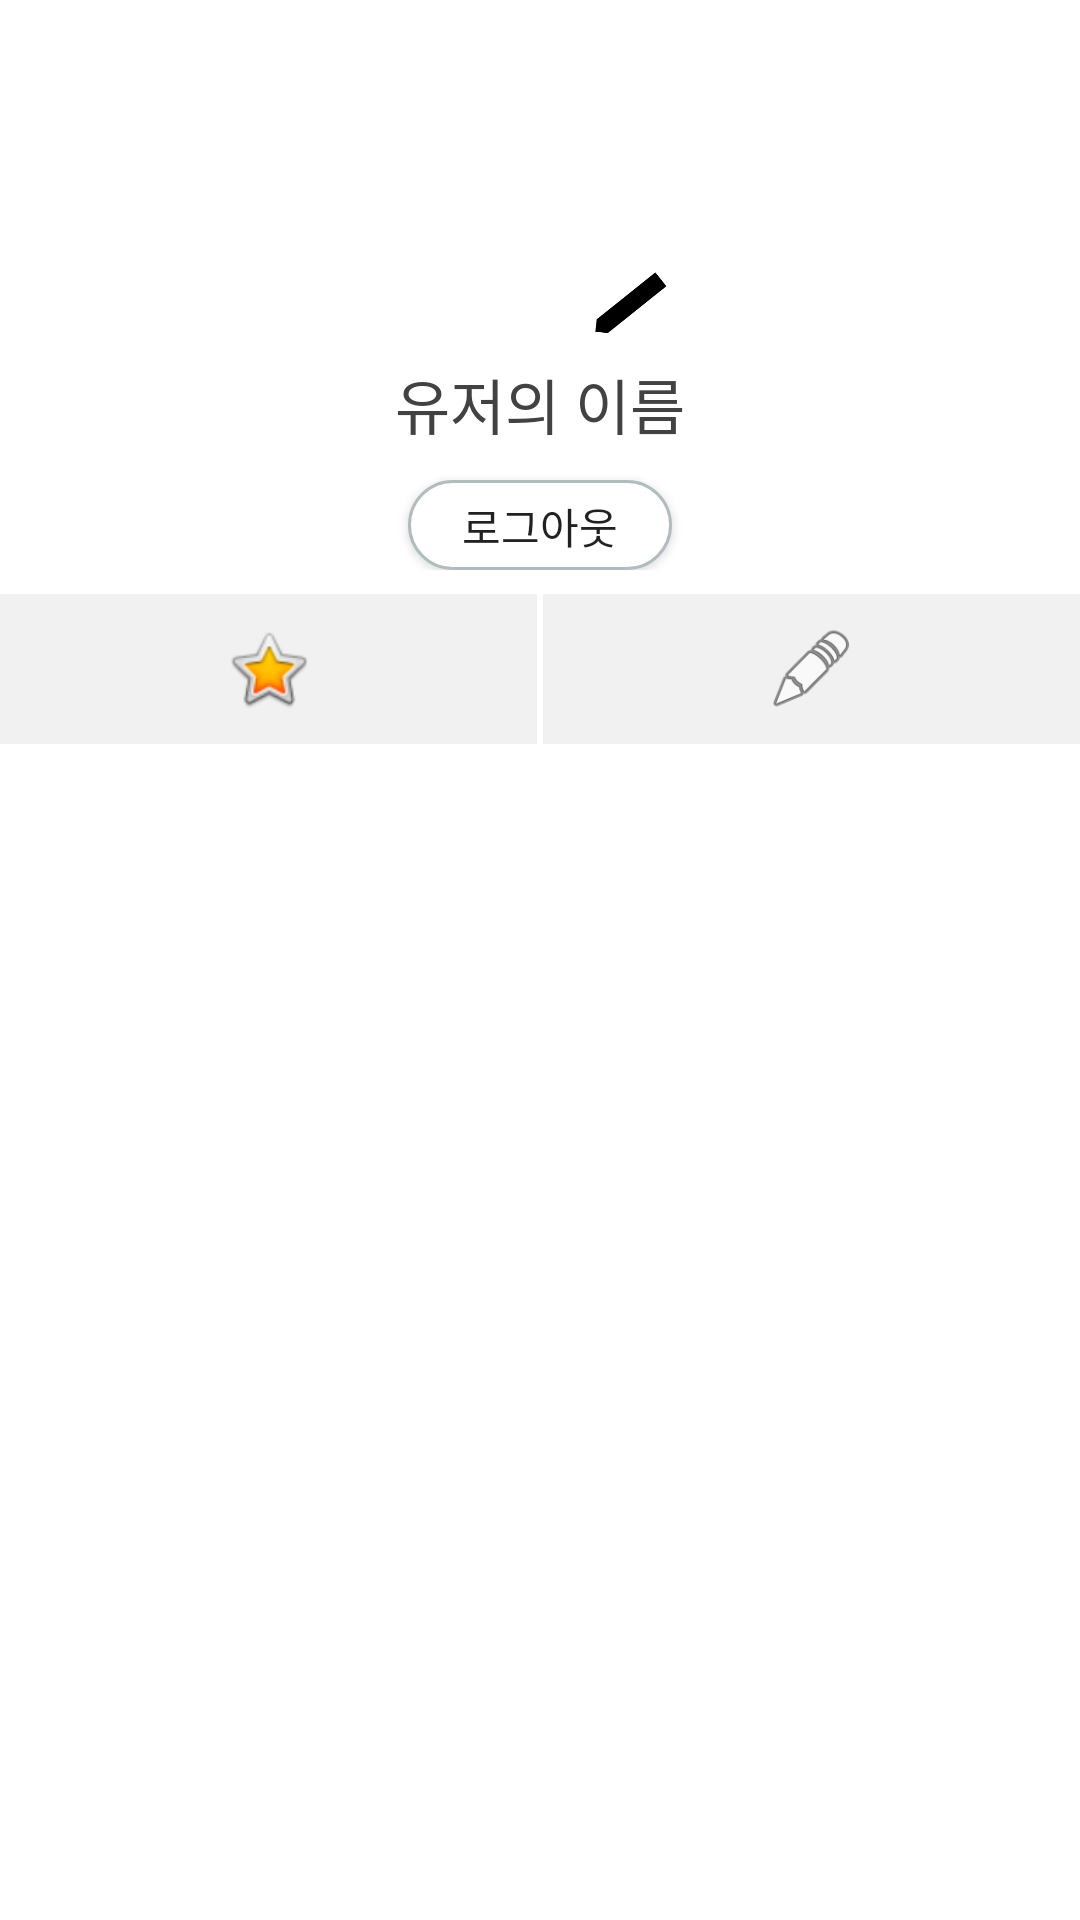

Point at icon controls on the screen. Image size 1080w x 1920h, points as point (x, y).
star on: point (269, 669)
